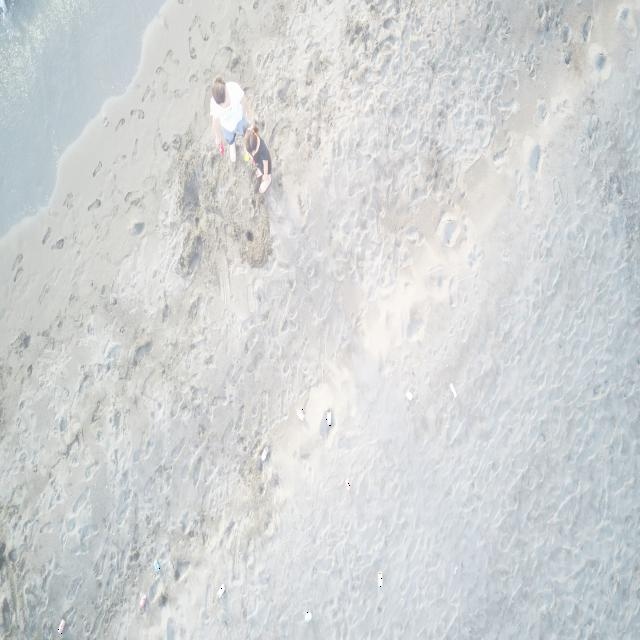tin-and-aluminum-cans: (57, 618, 66, 634), (217, 583, 226, 598), (449, 384, 457, 399), (261, 447, 269, 461), (297, 408, 305, 422), (326, 410, 333, 426), (405, 389, 413, 402), (304, 611, 312, 623), (377, 571, 383, 587), (140, 594, 146, 608), (345, 478, 351, 491), (154, 559, 160, 571)
